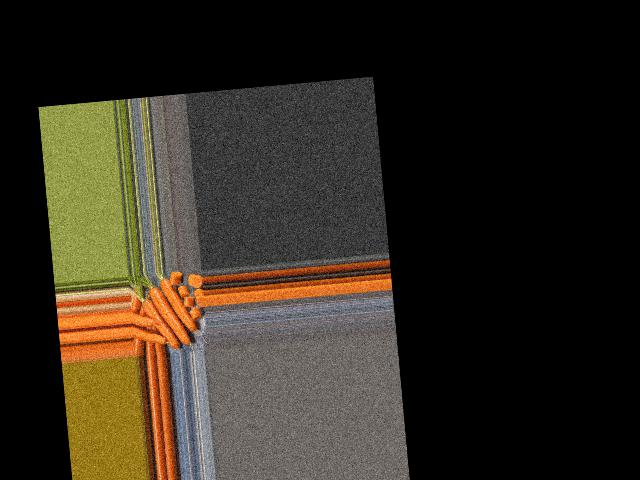carrot: (140, 296, 179, 352)
